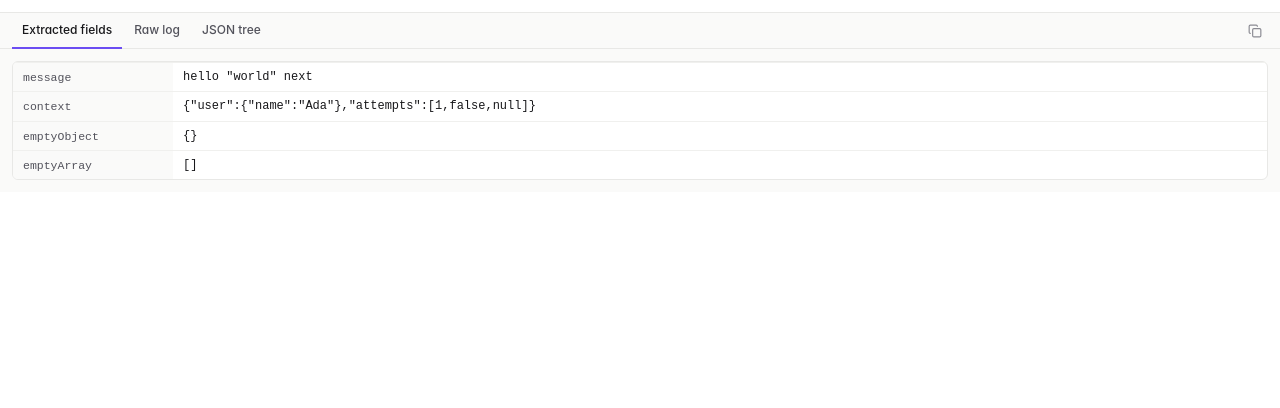
Test: expanded log JSON tree › opens nested objects and arrays individually with compact counts
Click the button "JSON tree" at {"x": 231, "y": 31}, box [192,13,271,49]
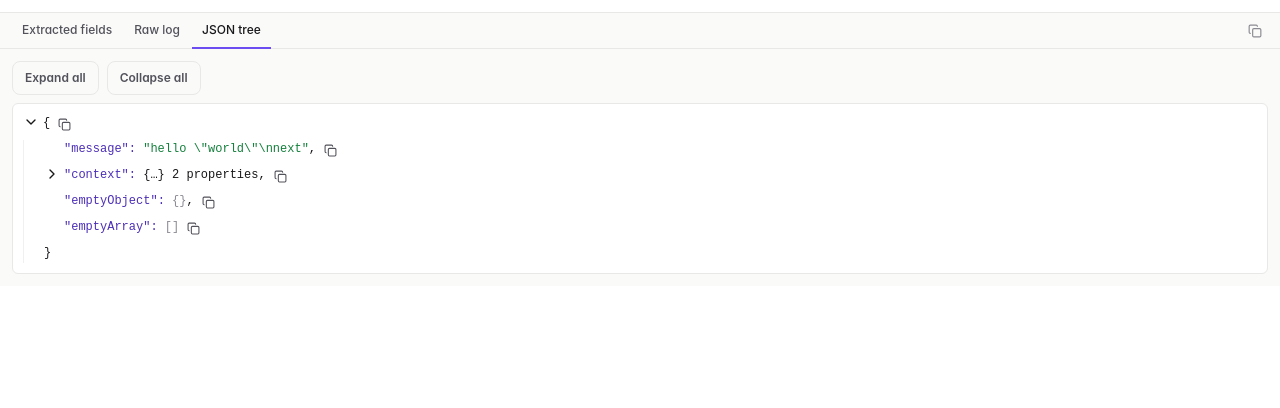
Expected: the text "{…} 2 properties" is shown, [143,168,258,182]
Expected: the text "\"Ada\"" is gone
Click the button "\"context\": {…} 2 properties," at {"x": 155, "y": 176}, box [44,166,266,185]
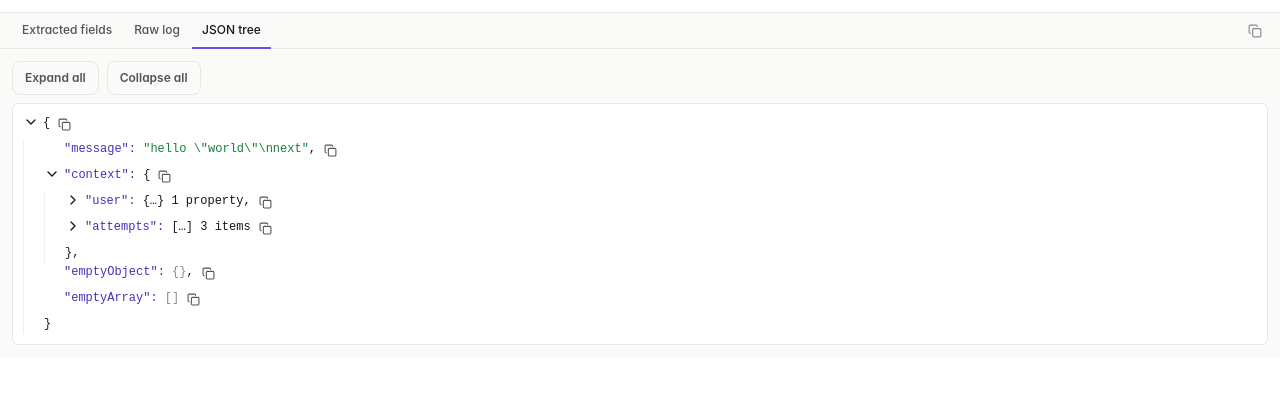
Click the button "\"user\": {…} 1 property," at {"x": 158, "y": 202}, box [65,192,251,211]
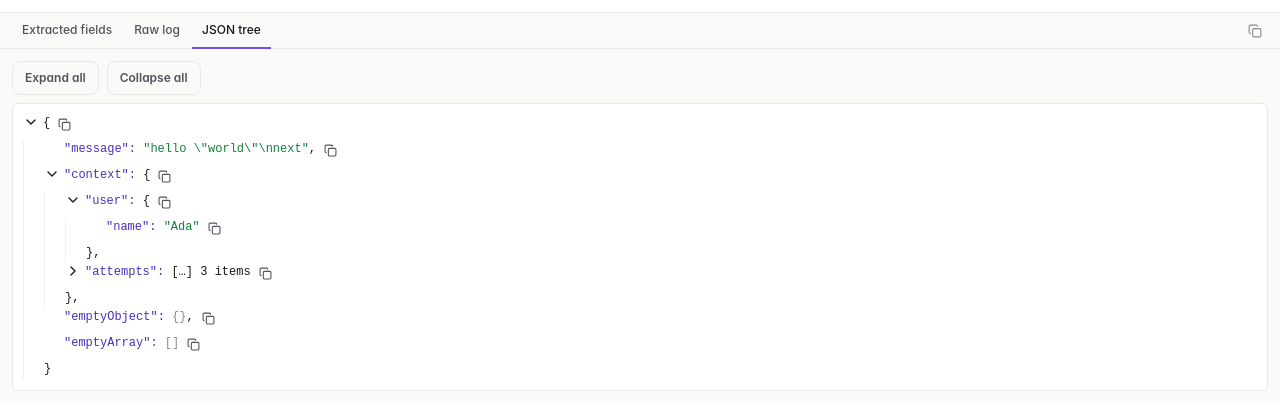
Expected: the text "\"Ada\"" is shown, [164,220,200,234]
Click the button "\"context\": {" at {"x": 97, "y": 176}, box [44,166,150,185]
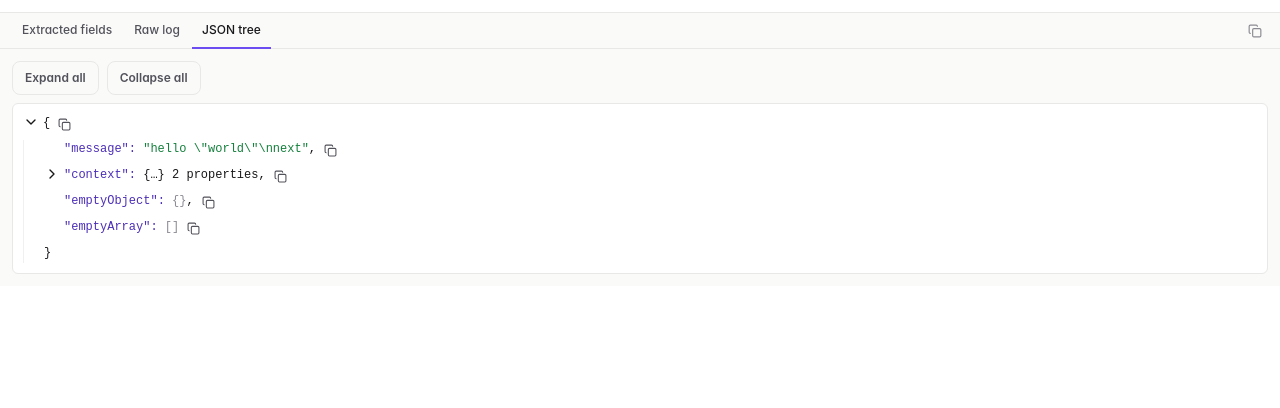
Expected: the text "{}" is shown, [172,194,186,208]
Expected: the text "\"Ada\"" is gone
